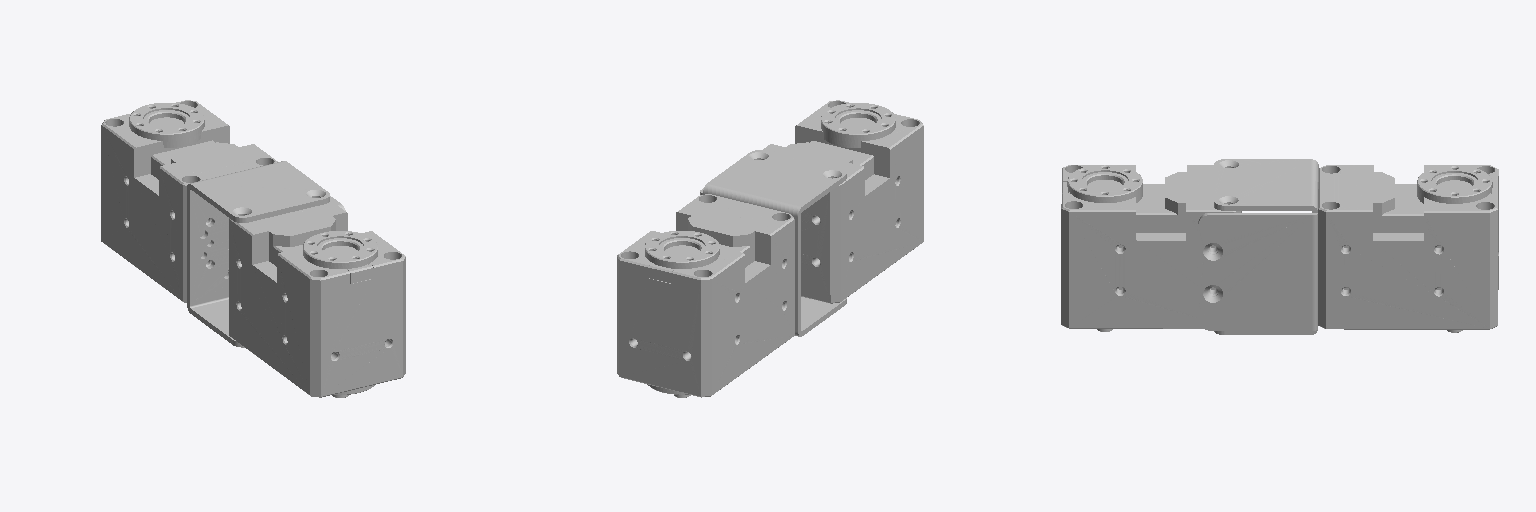
The picture shows the model from 3 angles: view 1: azimuth 30°, elevation 25°; view 2: azimuth 150°, elevation 25°; view 3: azimuth 270°, elevation 25°; orthographic projection.
Parts seen in each view (by area): view 1: la2; view 2: la2; view 3: la2.
Part boxes in pixels (x1,y1,x2,y2): la2: (101, 100, 405, 397); la2: (617, 100, 923, 397); la2: (1061, 159, 1498, 334).
Size of the model in its own units: 0.0303 by 0.0424 by 0.113.